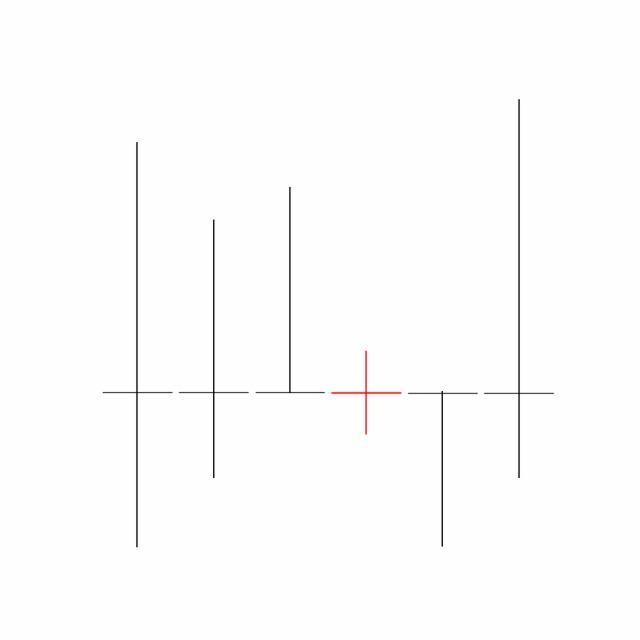Dragonfly Doji: (404, 389, 482, 549)
